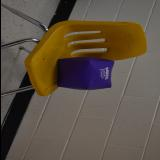cube: (56, 56, 114, 90)
